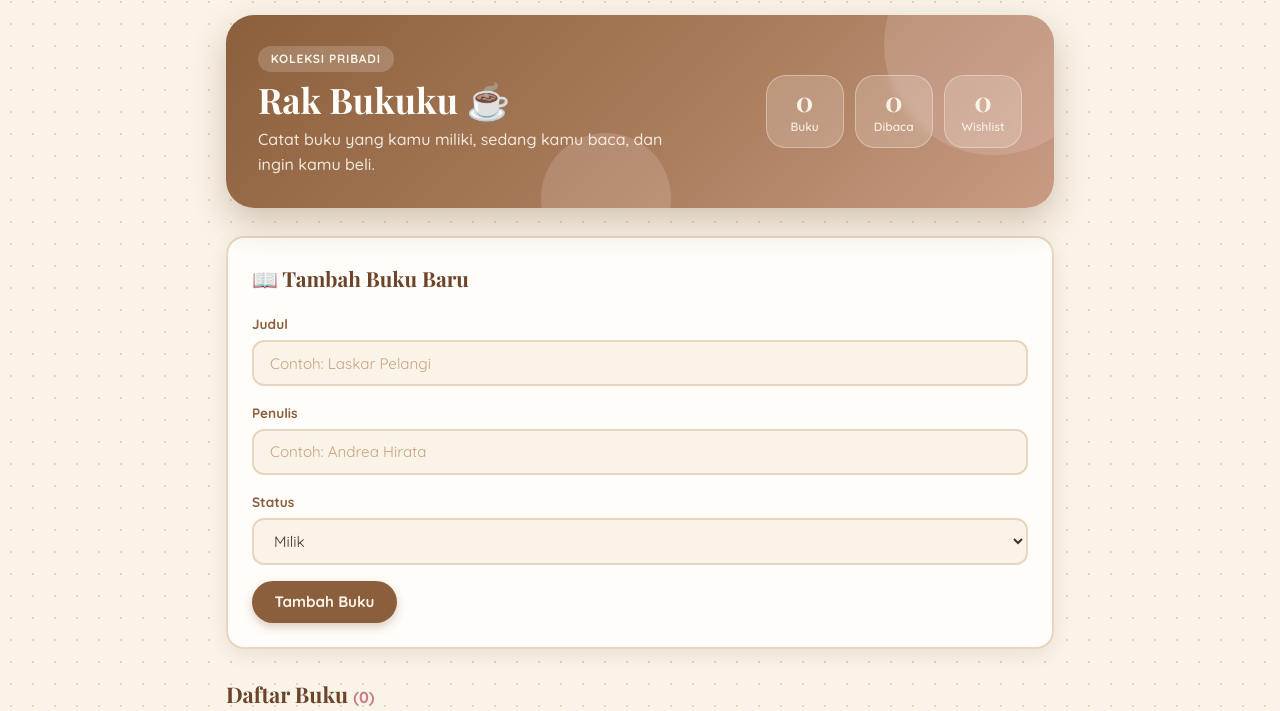
Test: Halaman Home (integrasi) › mengedit buku mengubah datanya
Type "Judul Lama" into the field labelled "Judul" at (640, 363), box left=252, top=340, right=1028, bottom=386
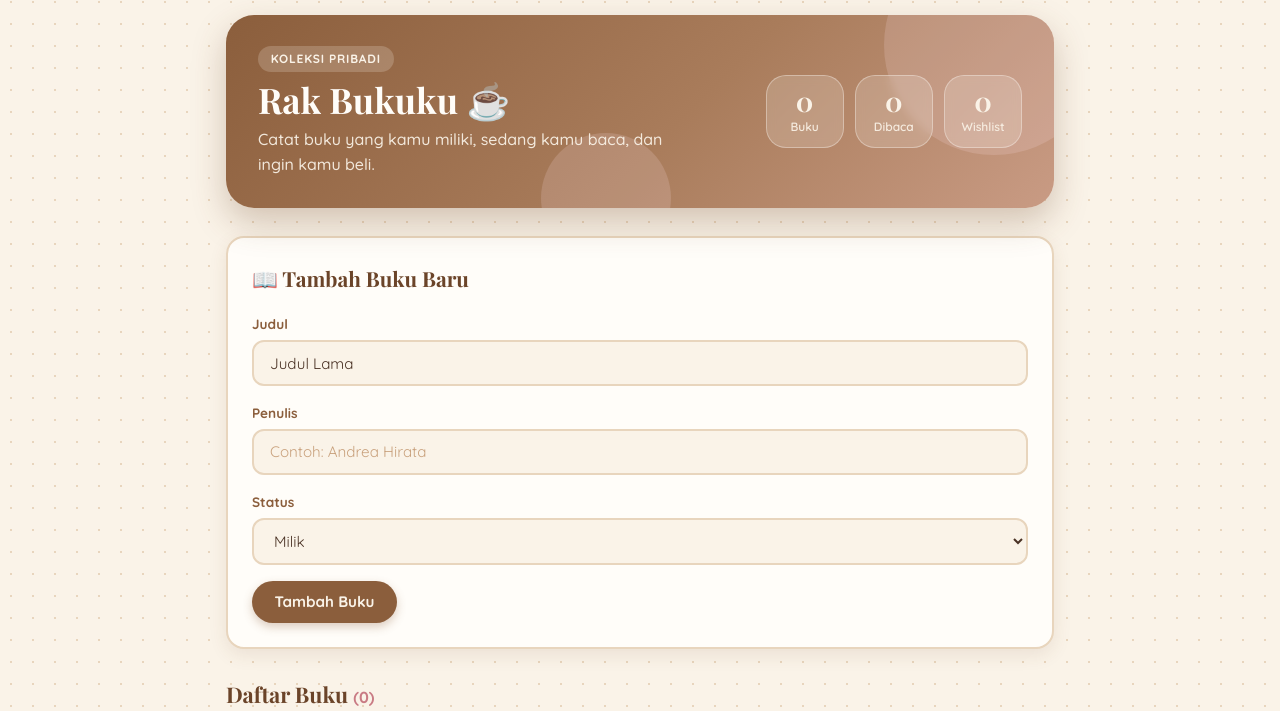
Type "Penulis A" into the field labelled "Penulis" at (640, 452), box left=252, top=429, right=1028, bottom=474
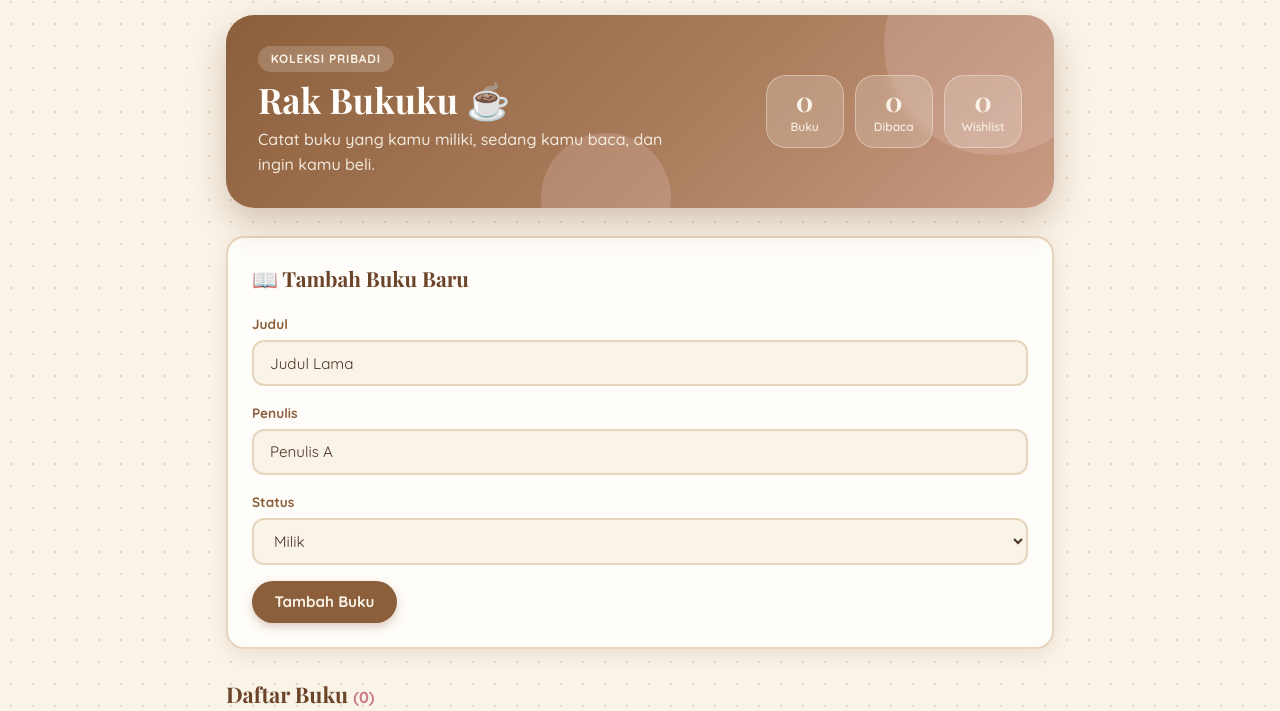
Select "Milik" in the dropdown labelled "Status" at (640, 542), box left=252, top=518, right=1028, bottom=565
Click the button "Tambah Buku" at (324, 602), box left=252, top=581, right=397, bottom=623
(page scrolled)
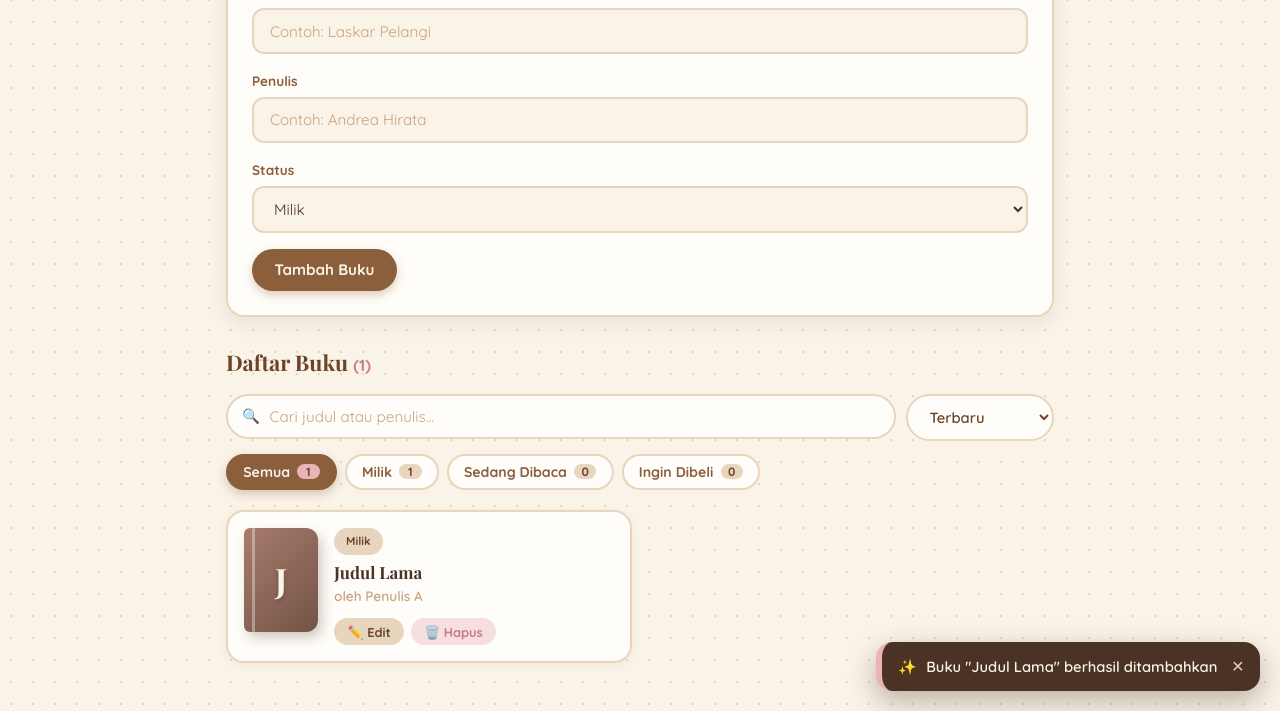
Click the button with aria-label "Edit Judul Lama" at (369, 632), box left=334, top=618, right=404, bottom=645
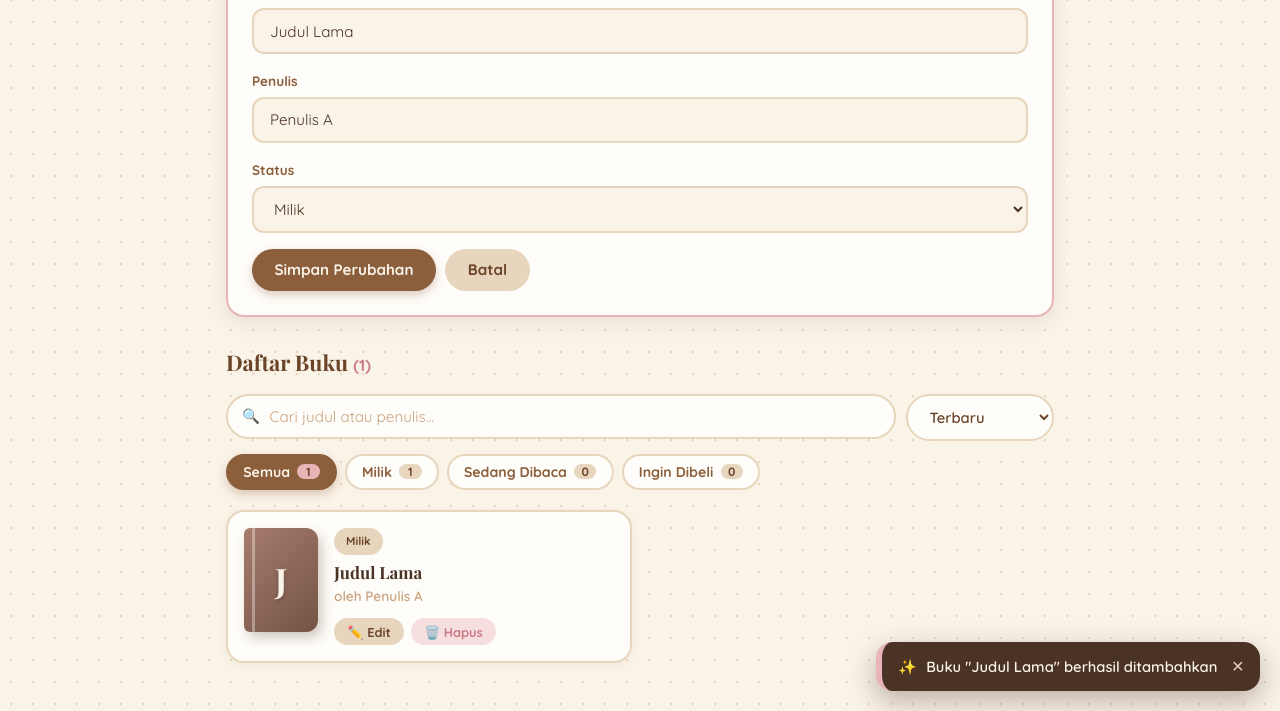
Replace the text in the field labelled "Judul" with "Judul Baru" at (640, 31), box left=252, top=8, right=1028, bottom=54
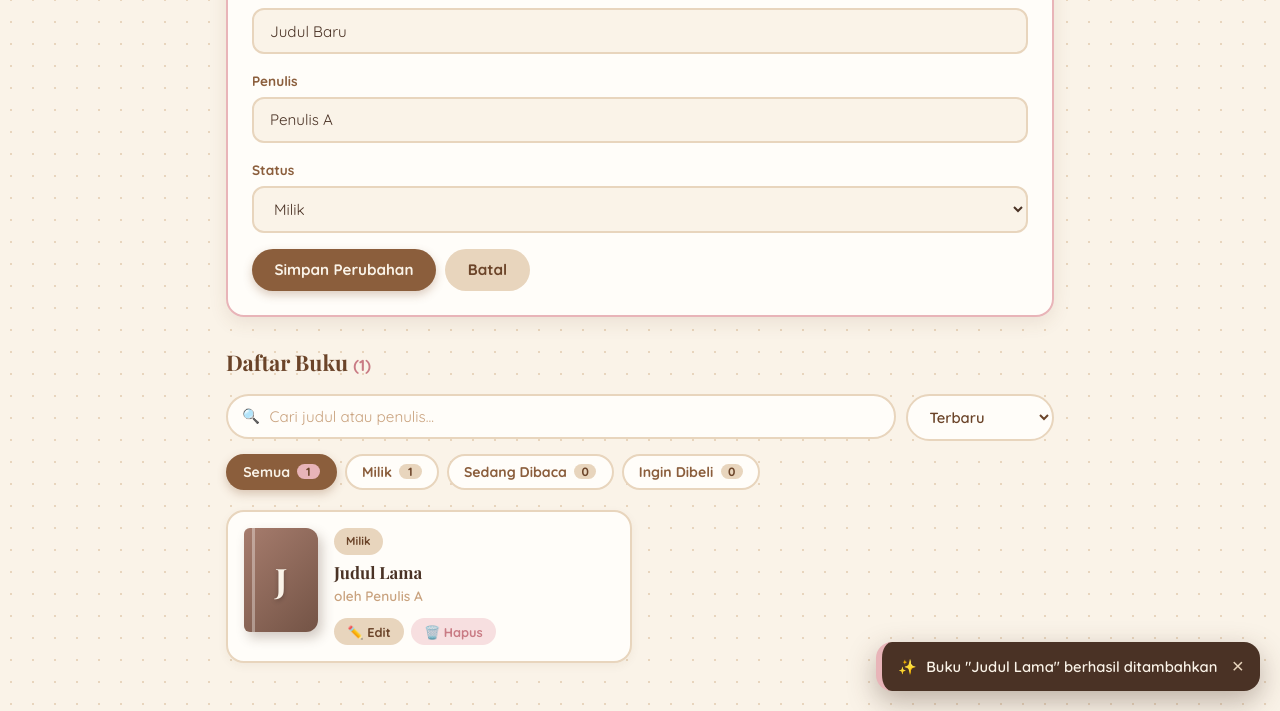
Click the button "Simpan Perubahan" at (344, 270), box left=252, top=249, right=436, bottom=291
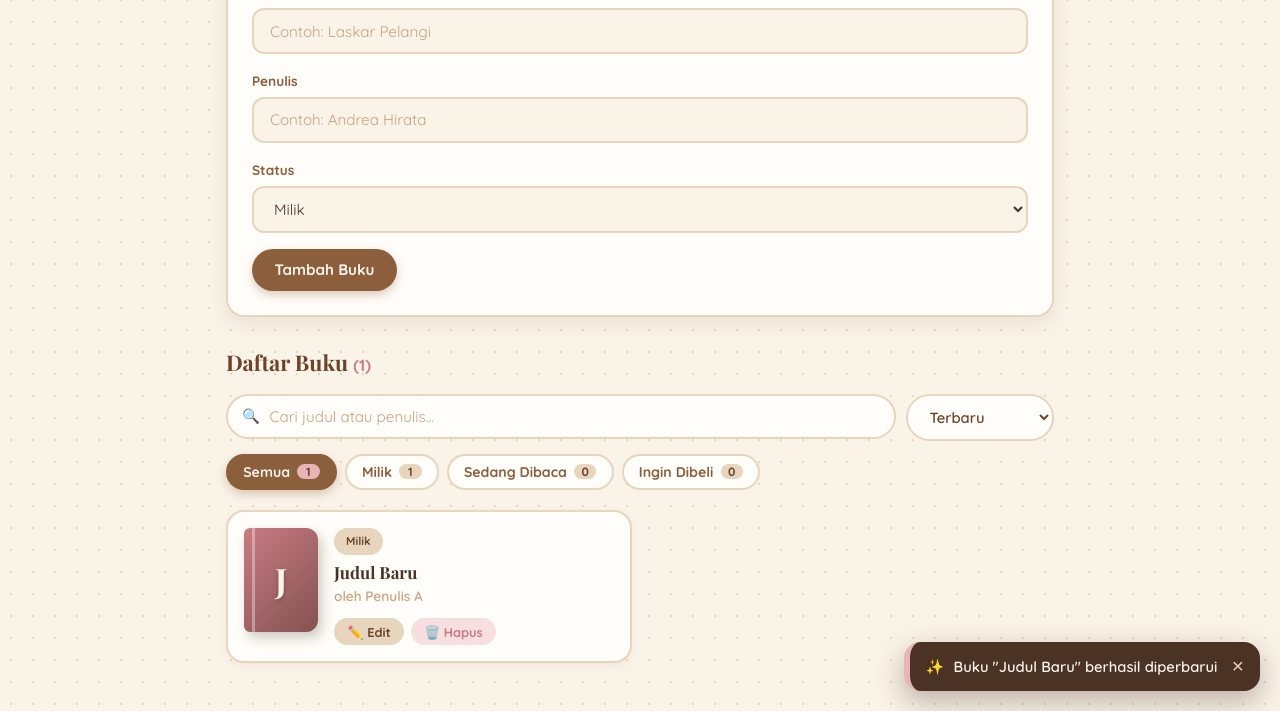
Check: the heading "Judul Baru" is shown, box left=334, top=562, right=417, bottom=584
Check: the heading "Judul Lama" is gone
